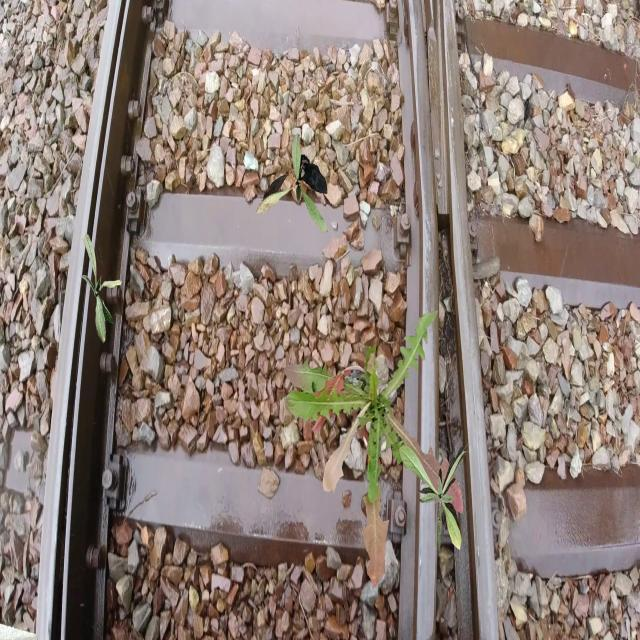Plant: (284, 311, 464, 589), (399, 443, 471, 551), (256, 133, 328, 232), (82, 234, 122, 344)
